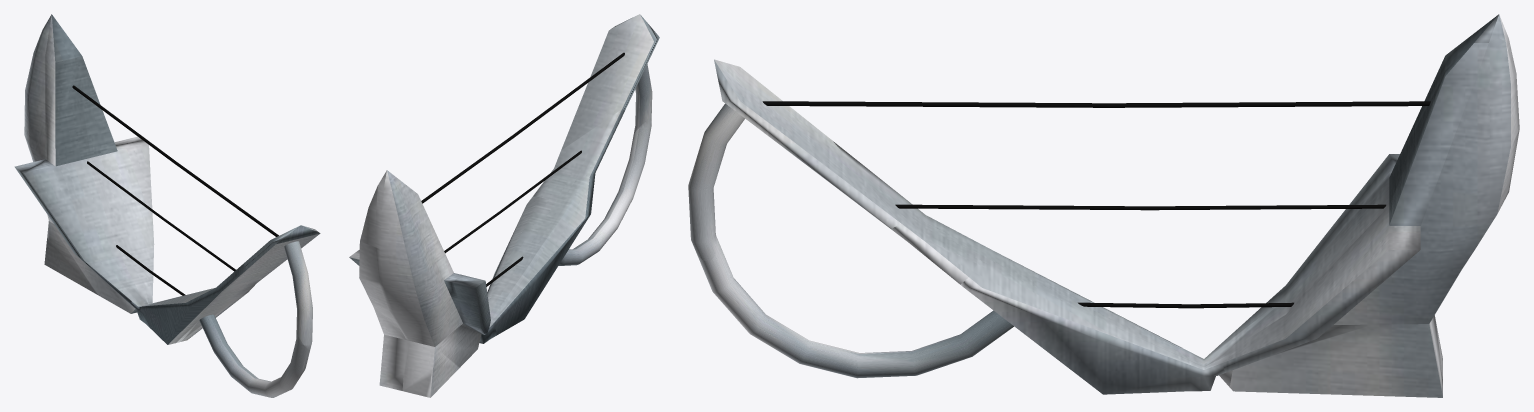
The model's file is CableShatter.fbx.
The picture shows the model from 3 angles, left to right: view 1: azimuth 30°, elevation 25°; view 2: azimuth 150°, elevation 25°; view 3: azimuth 270°, elevation 25°; orthographic projection. The views are drawn at different scales.
Parts seen in each view (by area): view 1: shard4, shard3, shard8, shard7, shard17, shard16, shard1, shard2, shard10, shard18, shard6, shard11 (+1 smaller); view 2: shard4, shard1, shard7, shard3, shard17, shard6, shard8, shard5, shard16, shard18, shard2, shard10 (+2 smaller); view 3: shard3, shard6, shard4, shard18, shard1, shard16, shard5, shard8, shard10, shard9, shard11, shard7 (+1 smaller).
Part boxes in pixels (x1,y1,x2,y2): shard4: (24,14,256,342); shard3: (66,34,154,289); shard8: (14,161,131,303); shard7: (140,264,249,344); shard17: (199,315,307,397); shard16: (284,241,312,351); shard1: (243,225,320,278); shard2: (44,238,97,294); shard10: (72,85,189,174); shard18: (210,314,309,396); shard6: (137,280,248,341); shard11: (87,161,192,239); shard4: (375,116,611,396); shard1: (561,14,659,149); shard7: (494,109,624,335); shard3: (349,185,405,390); shard17: (558,120,651,265); shard6: (487,196,549,306); shard8: (453,274,490,333); shard5: (533,137,580,199); shard16: (633,64,652,134); shard18: (568,129,637,249); shard2: (425,367,459,397); shard10: (421,125,529,203); shard3: (1223,38,1517,397); shard6: (960,257,1240,394); shard4: (844,14,1519,378); shard18: (697,240,1013,378); shard1: (714,59,900,228); shard16: (688,103,744,261); shard5: (879,196,977,284); shard8: (1215,154,1399,348); shard10: (1066,101,1430,107); shard9: (762,101,1070,107); shard11: (1054,204,1386,210); shard7: (833,141,1181,347).
Size of the model in its own units: 8.64 by 15.76 by 31.71.
Materials: 3 (1 with a texture image).
